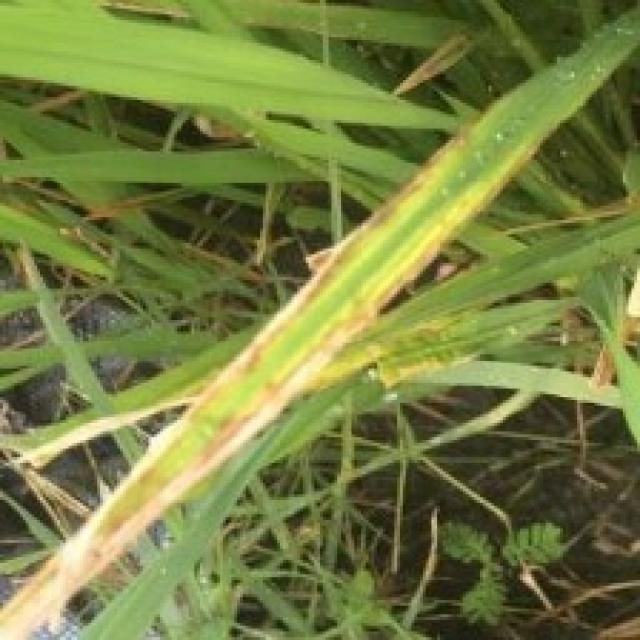Rice___Bacterial_Leaf_Blight: (0, 0, 637, 637)
